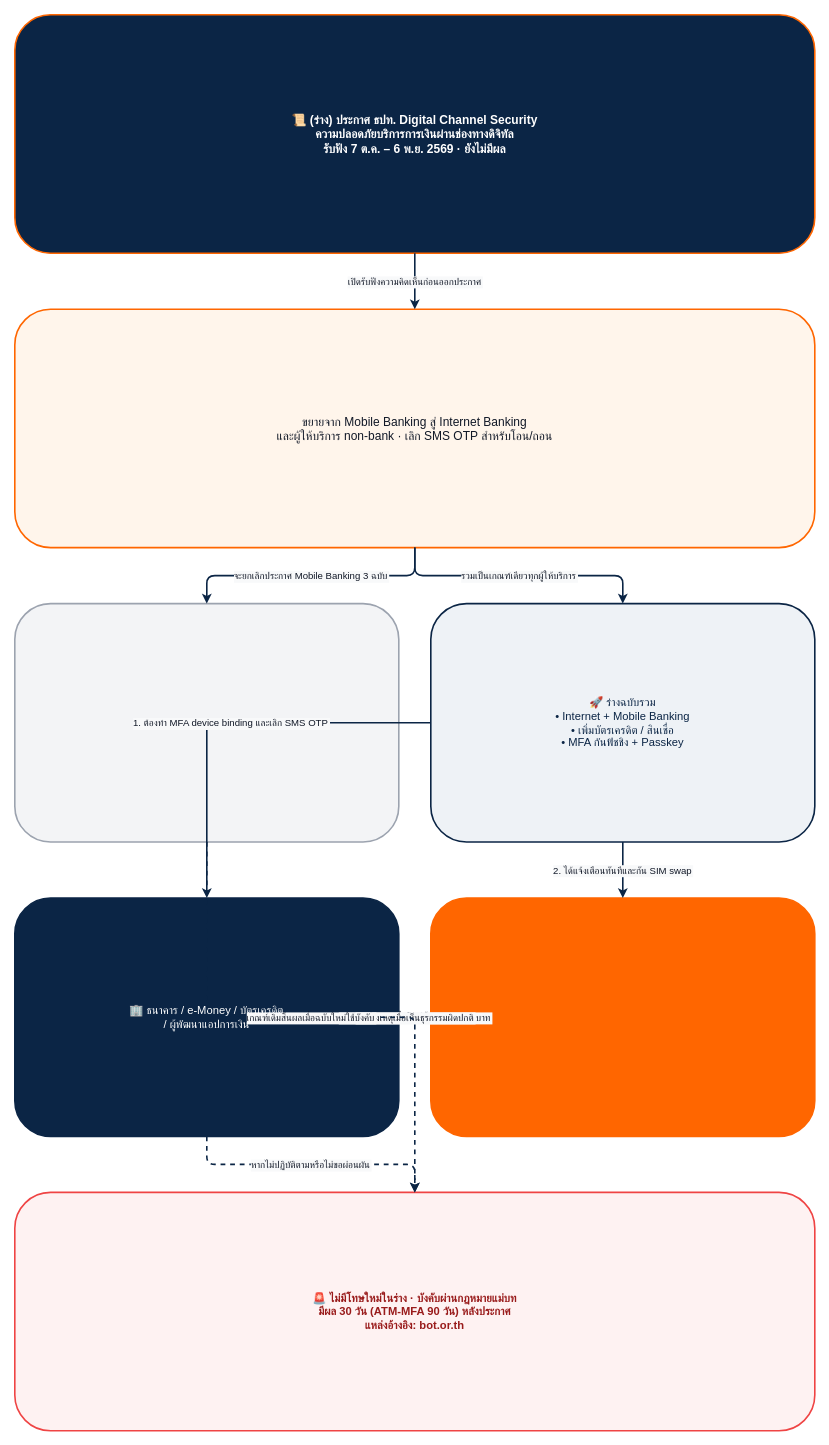
Some shapes in this 829 by 1445 pixel diagram are drawn without their labels. The shapes that lost their labels are listed below. From the top down, each one's centre as x and y in pixels, then its label:
At [206,722]: "🏛️ ประกาศ 4/2568 ฯลฯ • เฉพาะแอปมือถือ • ธนาคาร / SFI / e-Money • ไม่ห้าม SMS OTP".
At [622,1017]: "👤 ผู้ใช้บริการบุคคลธรรมดา".
